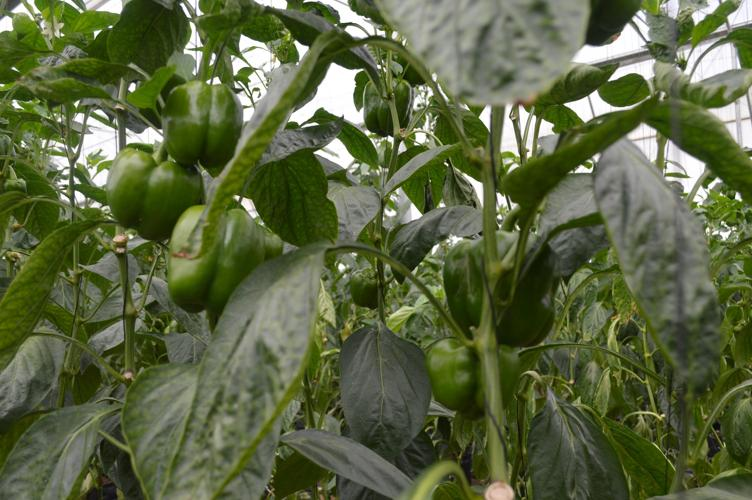BellPepper: (437, 224, 568, 347), (146, 208, 270, 312), (155, 81, 255, 169), (105, 144, 199, 237), (414, 336, 525, 414), (349, 74, 423, 139), (339, 266, 409, 321)
